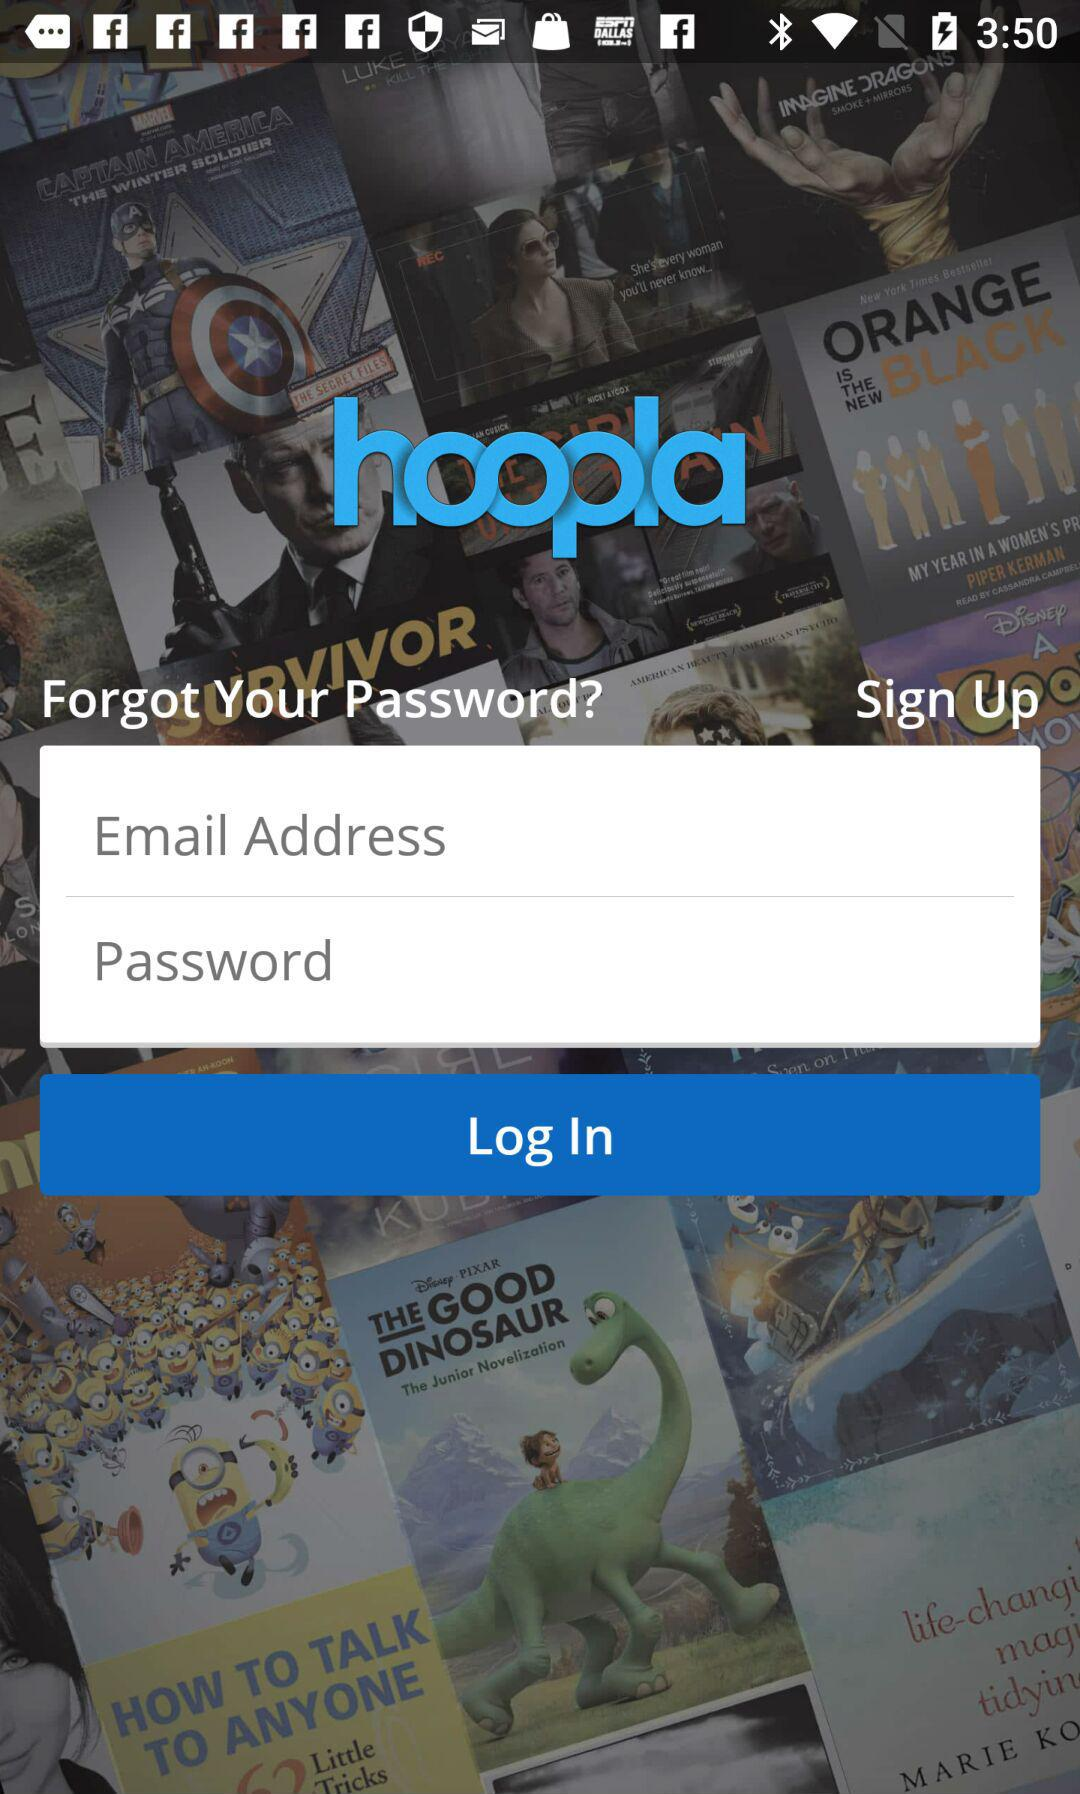BackgroundImage: (1, 64, 1080, 1794)
EditText: (40, 896, 1042, 1049), (40, 745, 1042, 898)
Image: (332, 393, 748, 563)
Text: (44, 677, 603, 730), (97, 812, 447, 857), (97, 938, 332, 982), (856, 678, 1039, 732)
TextButton: (40, 1074, 1042, 1197)
UpperTaskBar: (1, 1, 1080, 64)
